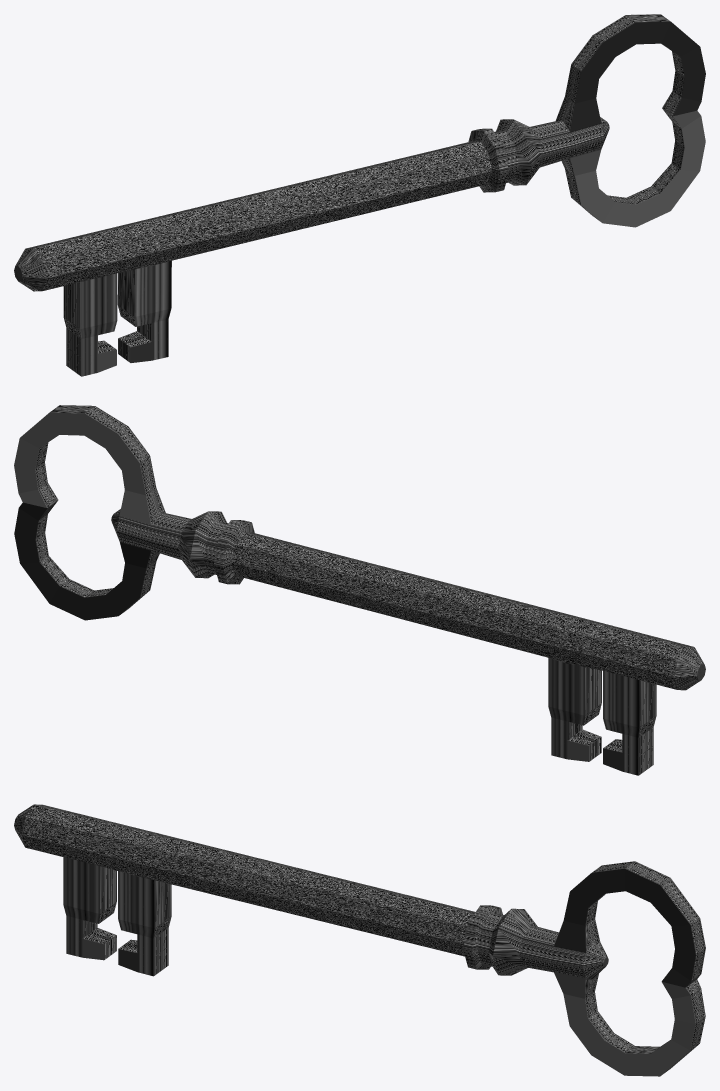
The model's file is Key.glb.
3 views of the same model, one above another, from view 1: azimuth 30°, elevation 25°; view 2: azimuth 150°, elevation 25°; view 3: azimuth 330°, elevation 25° (orthographic).
Parts seen in each view (by area): view 1: Cylinder; view 2: Cylinder; view 3: Cylinder.
Part boxes in pixels (bbox=[...]): Cylinder: bbox=[14, 14, 705, 376]; Cylinder: bbox=[14, 405, 705, 775]; Cylinder: bbox=[14, 804, 705, 1076].
Size of the model in its own units: 0.5436 by 0.1689 by 0.0507.
1 material, 1 textured.
